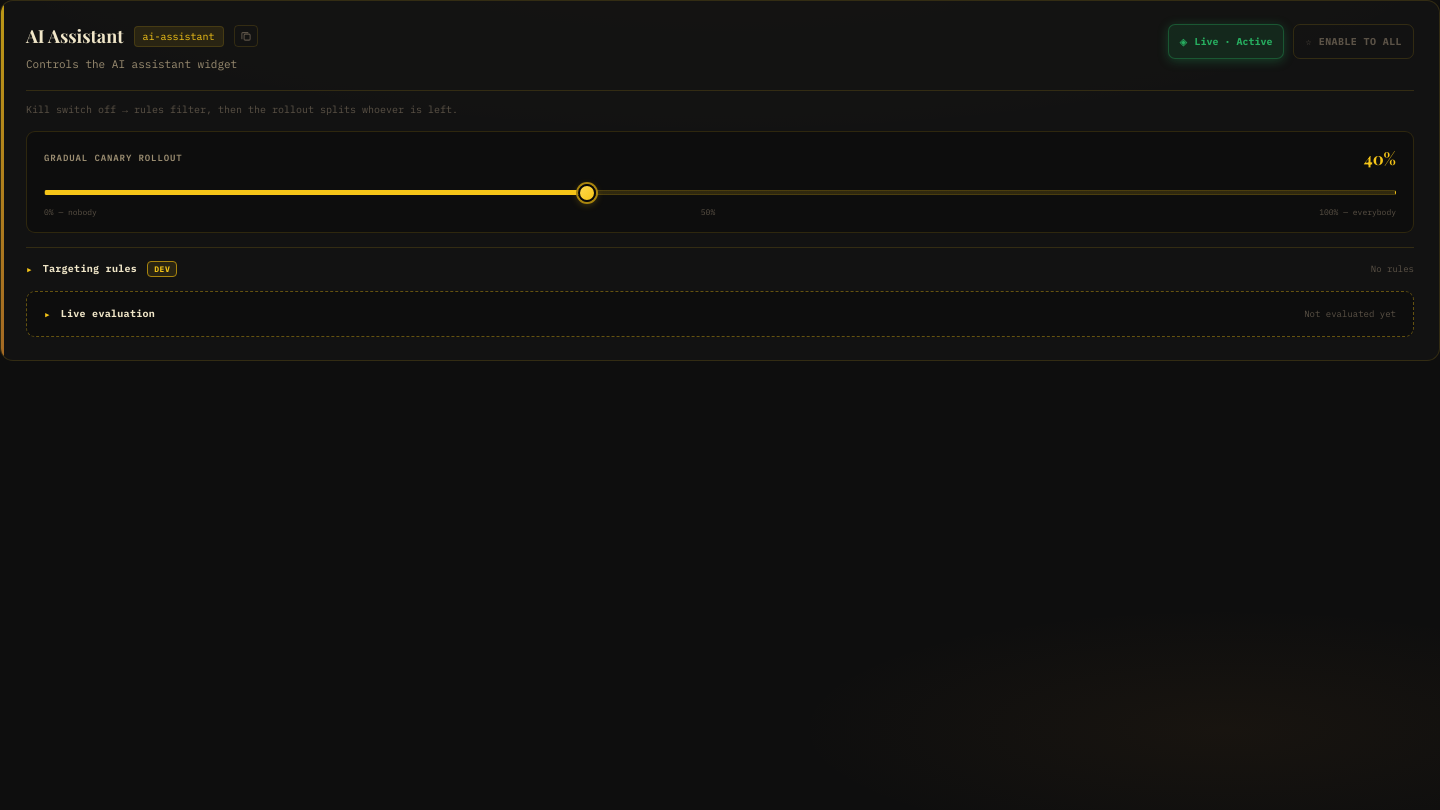
FlagCard live evaluation is minimized › opens the section when the disclosure is clicked
Click the button "▸ Live evaluation Not evaluated yet": [108, 314] box [44,307,1396,321]
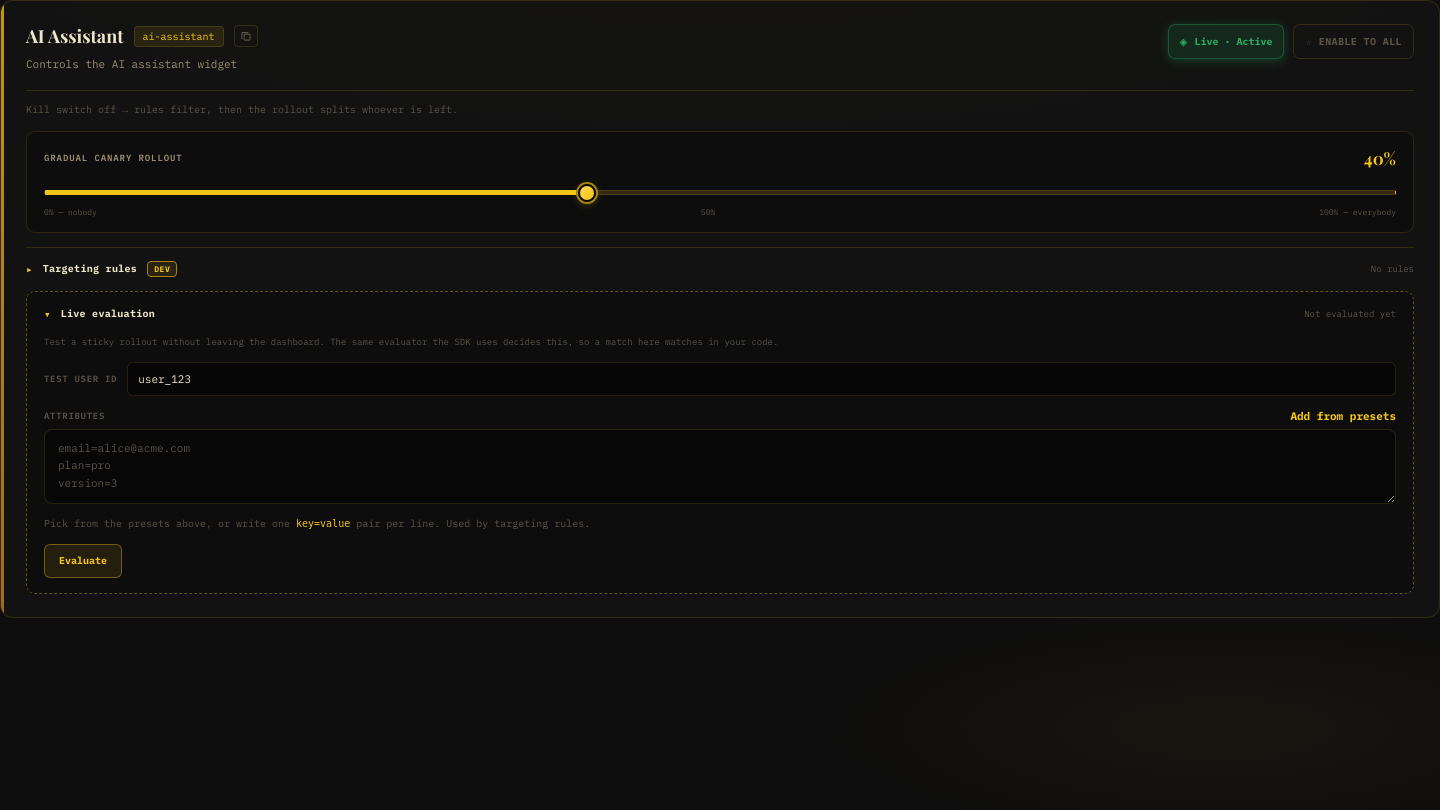
expect the button "▾ Live evaluation Not evaluated yet" is expanded: met, box [44,307,1396,321]
expect the field labelled "Test user ID" is shown: met, box [127,362,1396,396]
